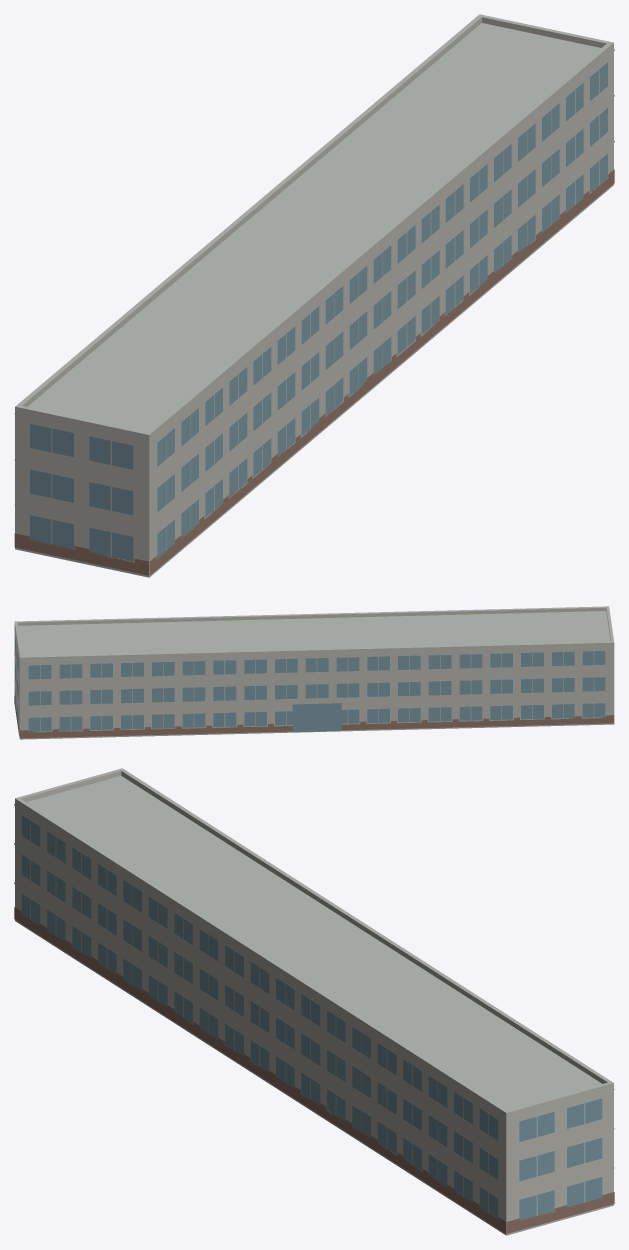
Rendered from public-2531d8c4-f211-4d8f-a64a-89ae1b5ceffd.glb.
3 renders of one model, top to bottom at view 1: azimuth 30°, elevation 25°; view 2: azimuth 150°, elevation 25°; view 3: azimuth 270°, elevation 25°, orthographic. The views are drawn at different scales.
Parts seen in each view (by area): view 1: public-2531d8c4-f211-4d8f-a64a-89ae1b5ceffd; view 2: public-2531d8c4-f211-4d8f-a64a-89ae1b5ceffd; view 3: public-2531d8c4-f211-4d8f-a64a-89ae1b5ceffd.
Boxes of the visible parts, x1,y1,x2,y2 form: public-2531d8c4-f211-4d8f-a64a-89ae1b5ceffd: [14, 14, 614, 577]; public-2531d8c4-f211-4d8f-a64a-89ae1b5ceffd: [14, 606, 614, 739]; public-2531d8c4-f211-4d8f-a64a-89ae1b5ceffd: [14, 768, 614, 1235].
Bounding box in the file's own units: 55.29 × 9.15 × 40.64.
